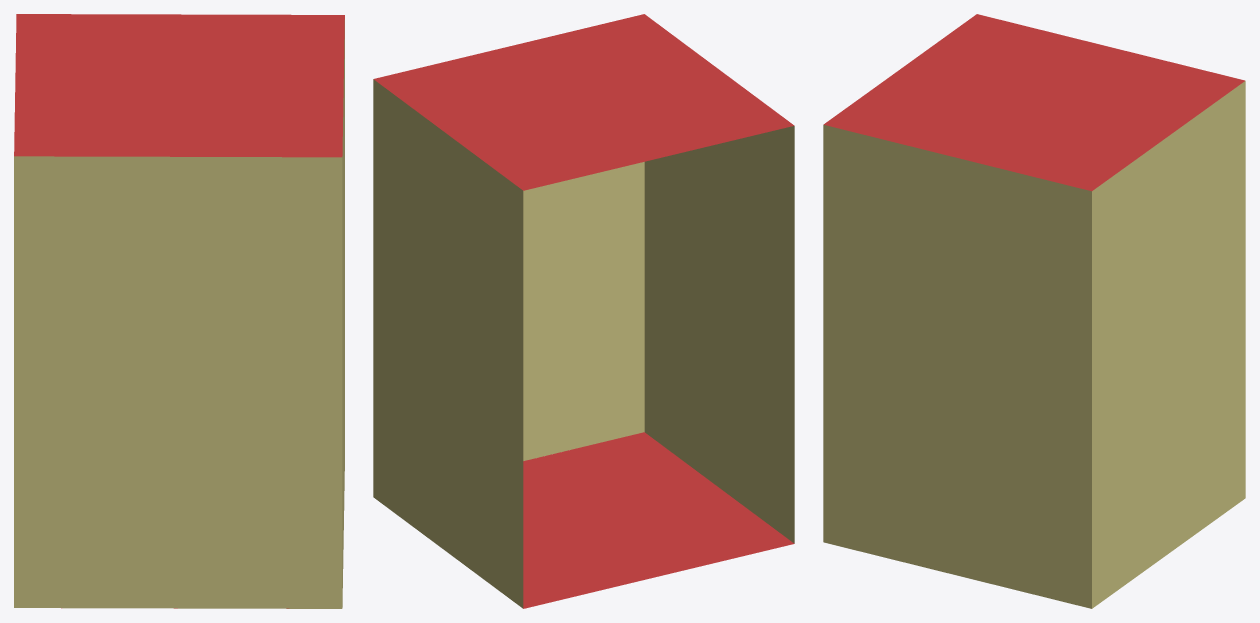
3 renders of one model, left to right at view 1: azimuth 30°, elevation 25°; view 2: azimuth 150°, elevation 25°; view 3: azimuth 270°, elevation 25°, orthographic. The views are drawn at different scales.
Visible parts, largest first — view 1: group_4, group_3; view 2: group_4, group_3, group_5; view 3: group_4, group_3.
Boxes of the visible parts, box(x1,y1,x2,y2) form: group_4: box(14, 20, 344, 608); group_3: box(14, 14, 344, 157); group_4: box(373, 79, 794, 608); group_3: box(373, 14, 794, 190); group_5: box(523, 432, 794, 608); group_4: box(823, 81, 1245, 608); group_3: box(824, 14, 1244, 191).
Size of the model in its own units: 7 by 7.04 by 7.68.
